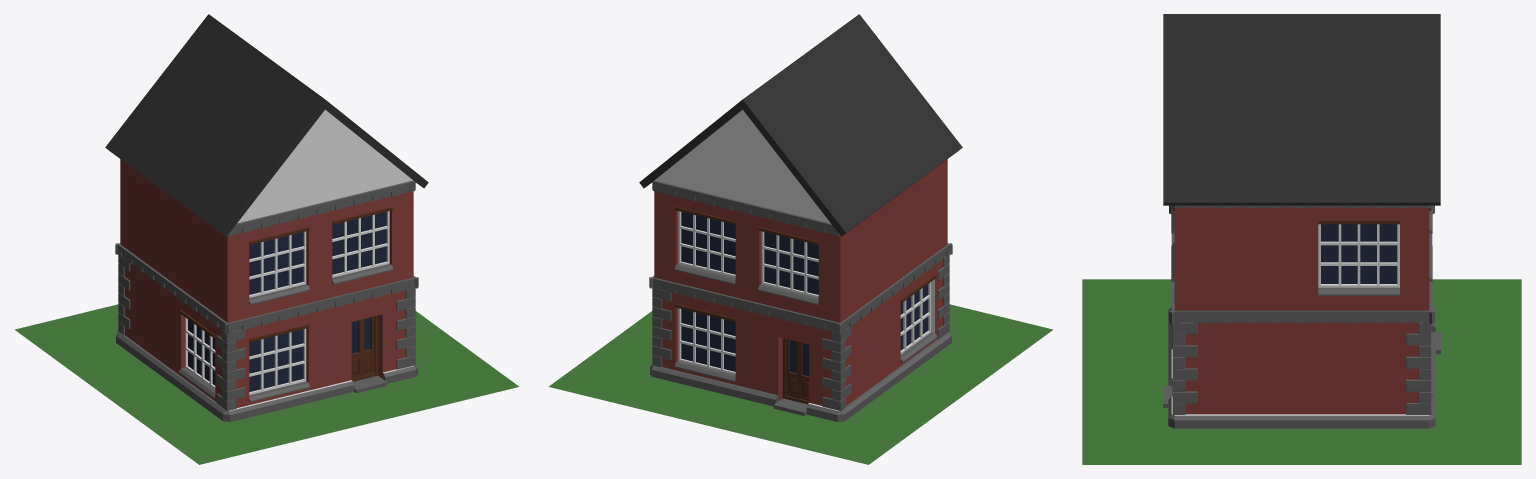
The model's file is 1x1 Residential House Detail.fbx.
3 views of the same model, side by side, from view 1: azimuth 30°, elevation 25°; view 2: azimuth 150°, elevation 25°; view 3: azimuth 270°, elevation 25° (orthographic). The views are drawn at different scales.
Visible parts, largest first — view 1: 1x1 Residential House Detail; view 2: 1x1 Residential House Detail; view 3: 1x1 Residential House Detail.
Boxes of the visible parts, x1,y1,x2,y2 form: 1x1 Residential House Detail: [15, 14, 519, 464]; 1x1 Residential House Detail: [548, 14, 1052, 464]; 1x1 Residential House Detail: [1082, 14, 1521, 464].
Bounding box in the file's own units: 1 × 0.8994 × 1.
